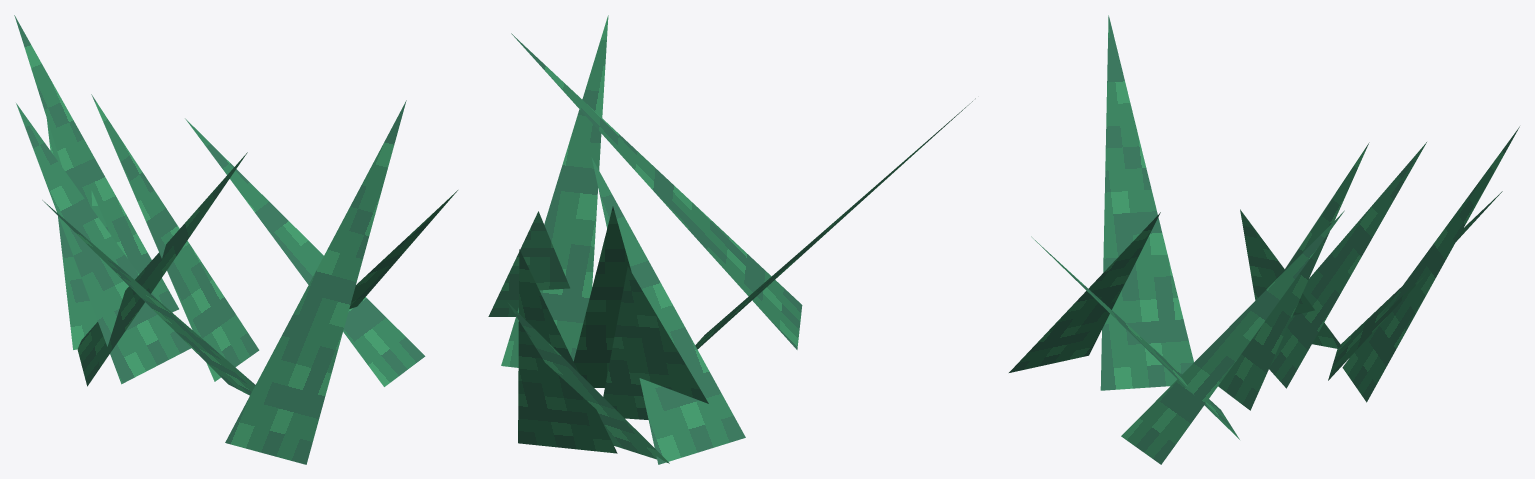
The model's file is grass_tuft.glb.
The picture shows the model from 3 angles, left to right: view 1: azimuth 30°, elevation 25°; view 2: azimuth 150°, elevation 25°; view 3: azimuth 270°, elevation 25°; orthographic projection. The views are drawn at different scales.
Visible parts, largest first — view 1: grass_tuft; view 2: grass_tuft; view 3: grass_tuft.
Part boxes in pixels (x1,y1,x2,y2): grass_tuft: (14,15,457,464); grass_tuft: (488,15,975,464); grass_tuft: (1009,15,1519,464).
Size of the model in its own units: 0.5516 by 0.3565 by 0.6317.
Materials: 1 (1 with a texture image).
